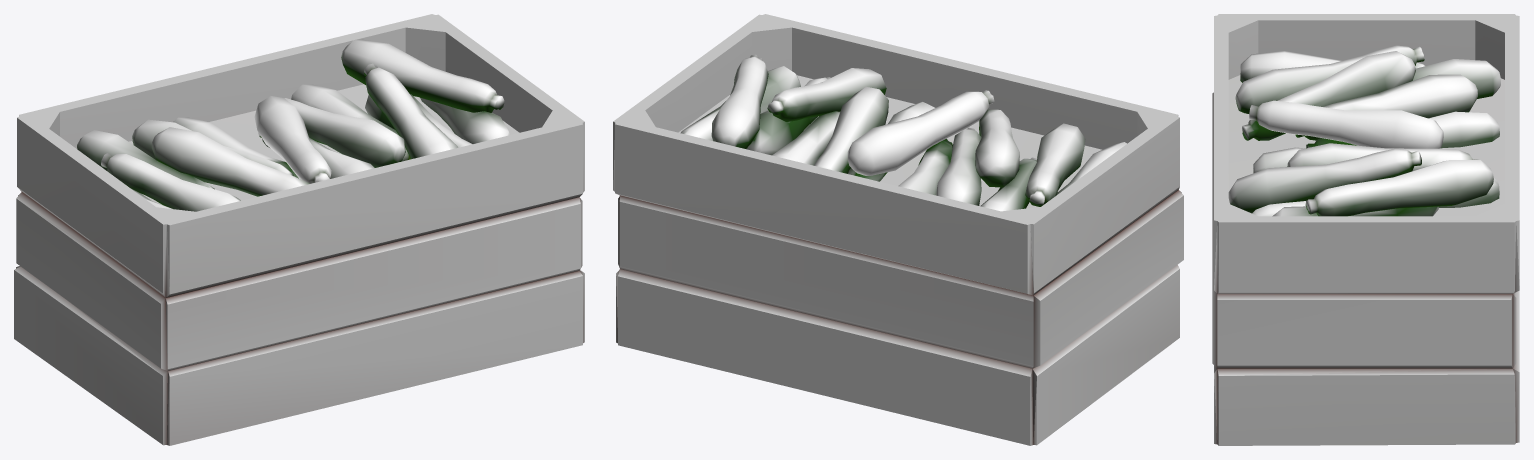
File: sb_obj_indoor015_Vegetables04c.fbx
3 renders of one model, left to right at view 1: azimuth 30°, elevation 25°; view 2: azimuth 150°, elevation 25°; view 3: azimuth 270°, elevation 25°, orthographic.
Parts seen in each view (by area): view 1: sb_obj_indoor015_Vegetables04c; view 2: sb_obj_indoor015_Vegetables04c; view 3: sb_obj_indoor015_Vegetables04c.
Boxes of the visible parts, x1,y1,x2,y2 form: sb_obj_indoor015_Vegetables04c: (14, 14, 584, 445); sb_obj_indoor015_Vegetables04c: (613, 14, 1183, 445); sb_obj_indoor015_Vegetables04c: (1212, 14, 1519, 445).
Size of the model in its own units: 1.01 by 0.5368 by 0.6233.
